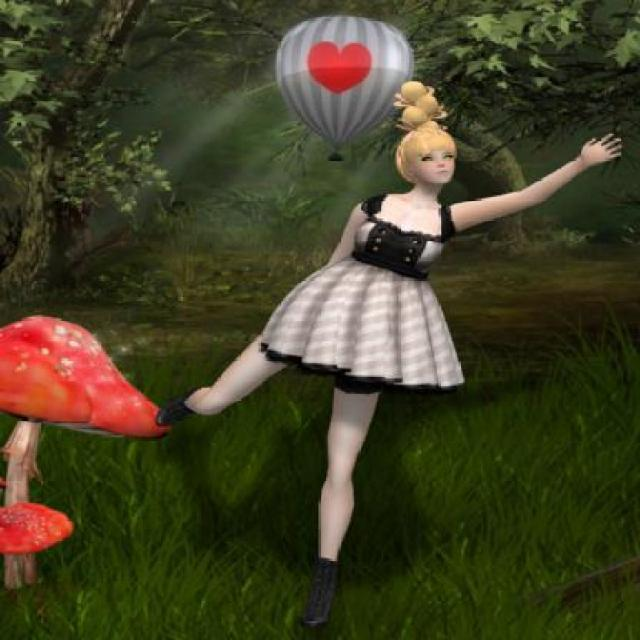Mushroom: (0, 312, 172, 578), (0, 503, 72, 590)
